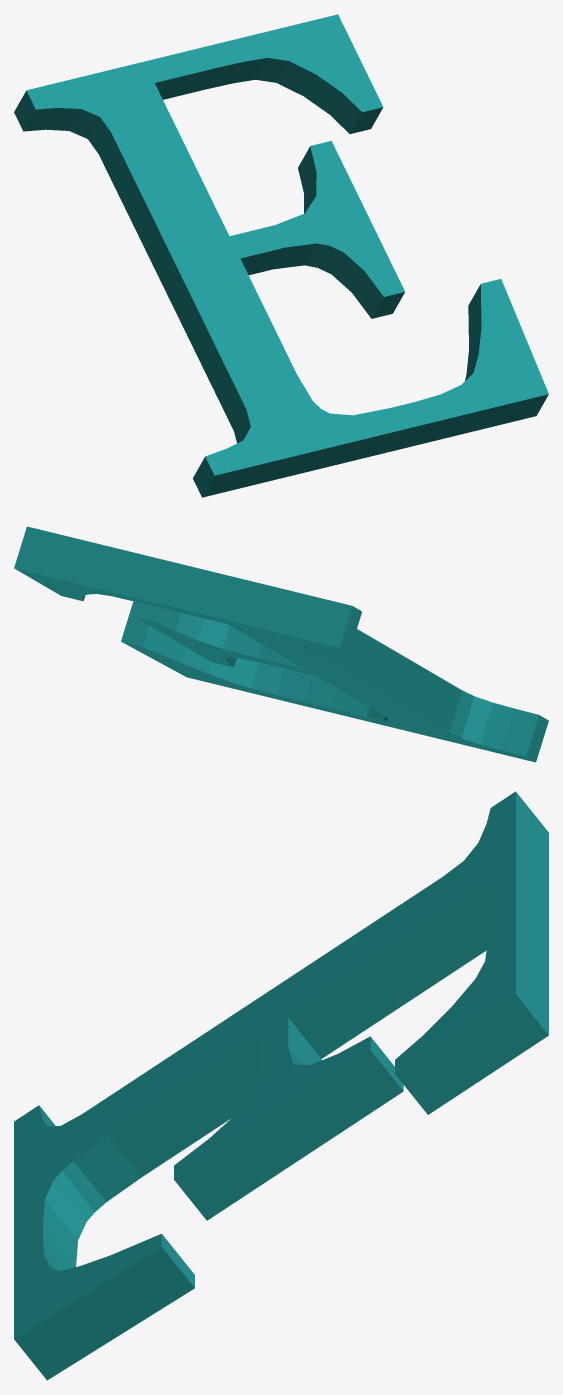
The model's file is original-27.obj.
The picture shows the model from 3 angles, top to bottom: view 1: azimuth 30°, elevation 25°; view 2: azimuth 150°, elevation 25°; view 3: azimuth 270°, elevation 25°; orthographic projection. The views are drawn at different scales.
Visible parts, largest first — view 1: #ID14; view 2: #ID14; view 3: #ID14.
Boxes of the visible parts, x1,y1,x2,y2 form: #ID14: (14, 14, 548, 497); #ID14: (14, 526, 548, 762); #ID14: (14, 791, 548, 1380).
Size of the model in its own units: 0.0163 by 0.0127 by 0.0166.
